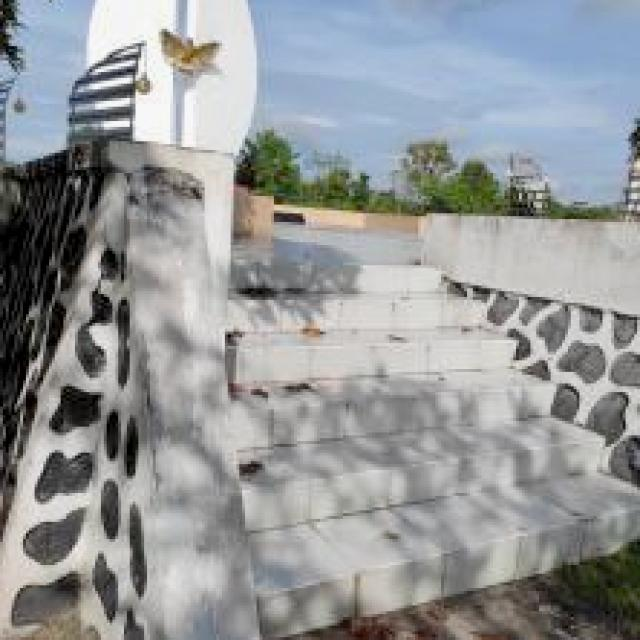upstair: (223, 243, 640, 609)
